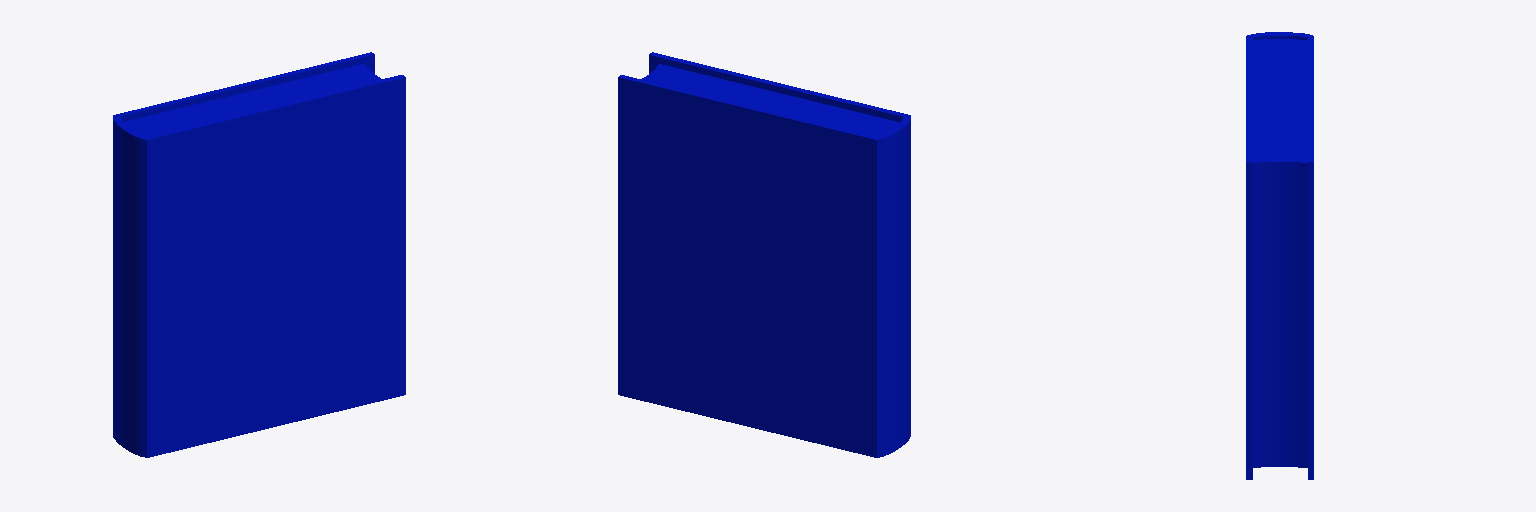
File: book-blue.obj
3 renders of one model, left to right at view 1: azimuth 30°, elevation 25°; view 2: azimuth 150°, elevation 25°; view 3: azimuth 270°, elevation 25°, orthographic.
Parts seen in each view (by area): view 1: Cube.001; view 2: Cube.001; view 3: Cube.001.
Boxes of the visible parts, <box> form: Cube.001: <box>113,52,405,457</box>; Cube.001: <box>618,52,910,457</box>; Cube.001: <box>1246,32,1313,479</box>.
Size of the model in its own units: 0.4137 by 0.4733 by 0.0919.